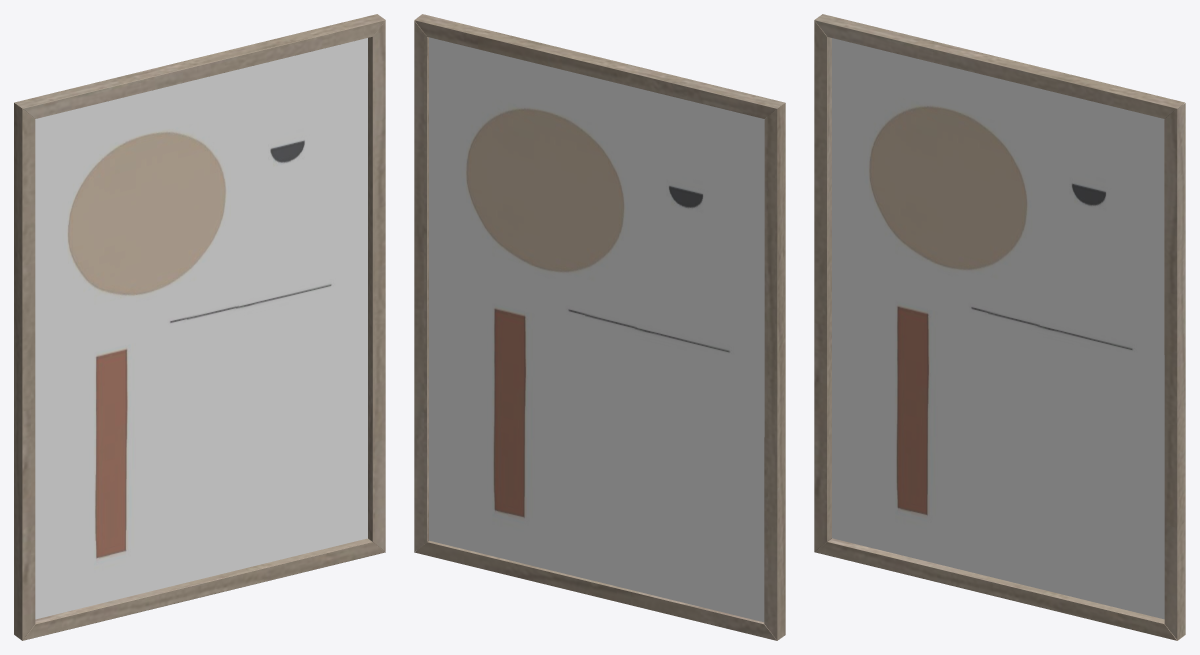
Rendered from frame70x50_vs13_2_001_2.glb.
3 renders of one model, left to right at view 1: azimuth 30°, elevation 25°; view 2: azimuth 150°, elevation 25°; view 3: azimuth 330°, elevation 25°, orthographic.
Visible parts, largest first — view 1: BP_frame70x50_vs13_2_001_2; view 2: BP_frame70x50_vs13_2_001_2; view 3: BP_frame70x50_vs13_2_001_2.
Boxes of the visible parts, left/top/right/bottom form: BP_frame70x50_vs13_2_001_2: left=14, top=14, right=385, bottom=640; BP_frame70x50_vs13_2_001_2: left=414, top=14, right=785, bottom=640; BP_frame70x50_vs13_2_001_2: left=814, top=14, right=1185, bottom=640.
Bounding box in the file's own units: 0.5001 × 0.7 × 0.02.
2 materials, 2 textured.
